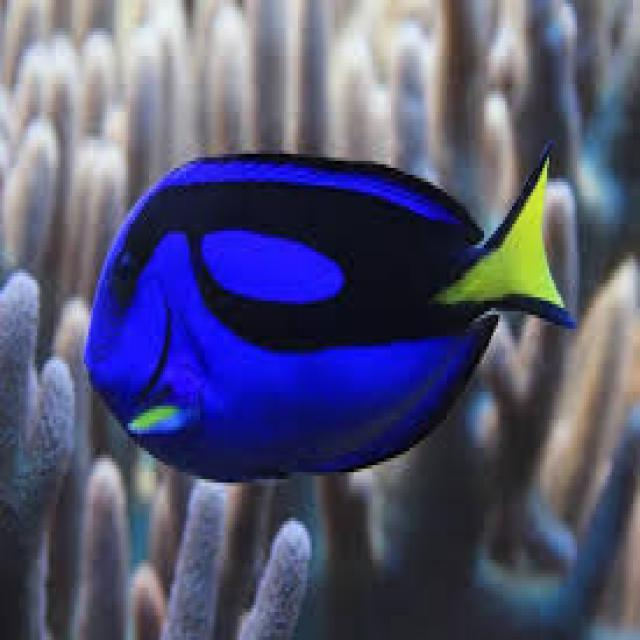BlueTang: (82, 145, 570, 478)
